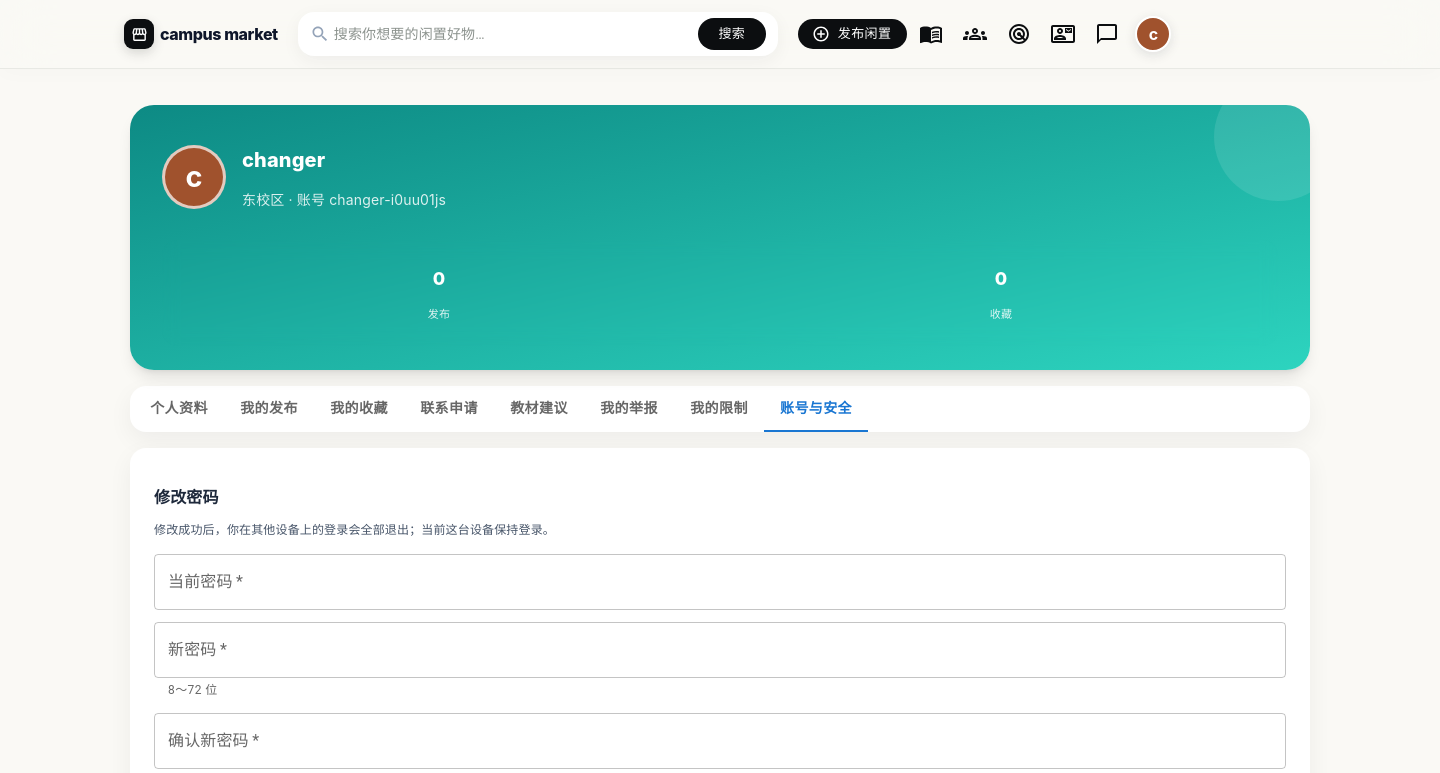
Scenario: 个人中心 → 账号与安全：修改密码 › 服务端的 429 原样显示（含等待时间）；其他设备退出的数量来自服务端响应
Step 1. Type "test-password" into the password field labelled "当前密码 *" → (720, 582), box [154,554,1286,610]
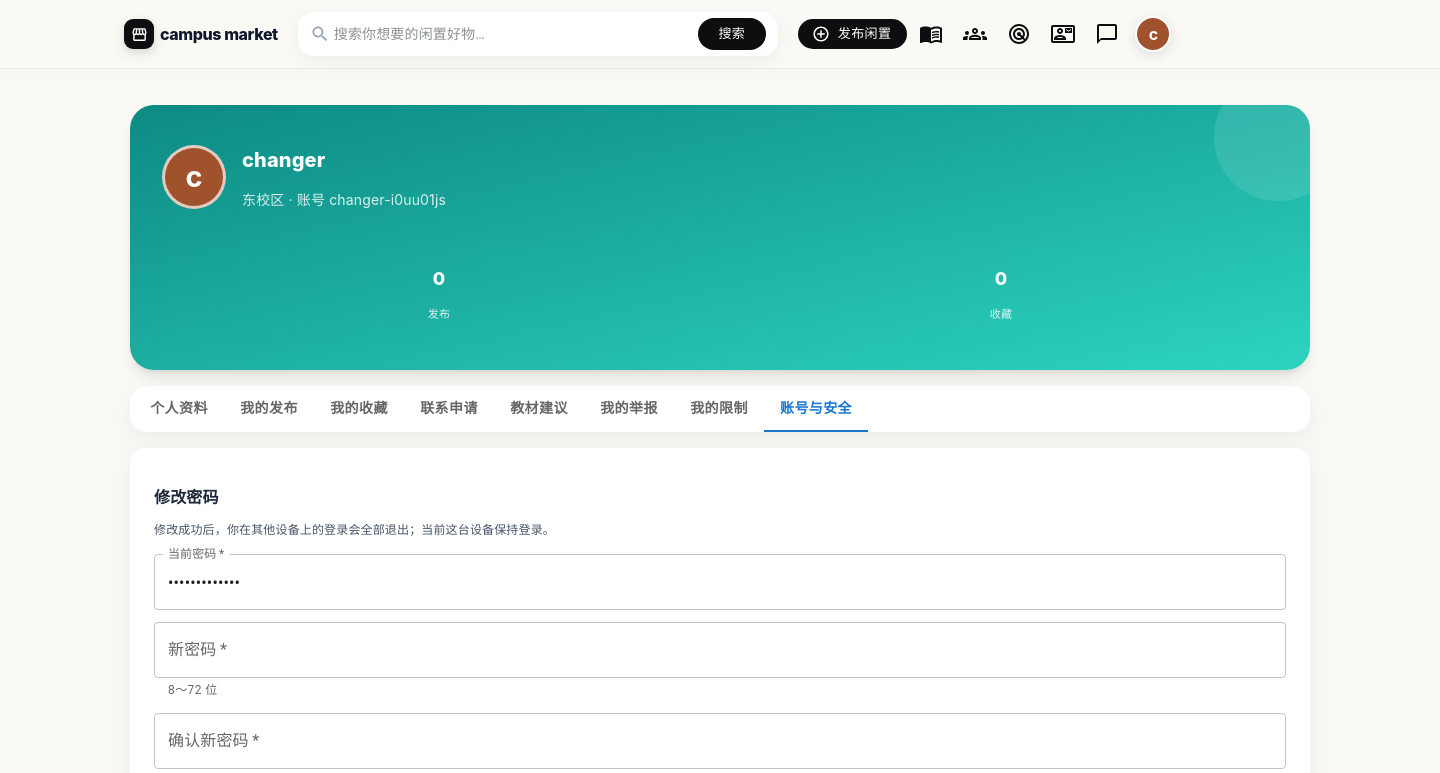
Step 2. Type "brand-new-pass" into the password field labelled "新密码 *" → (720, 650), box [154,622,1286,678]
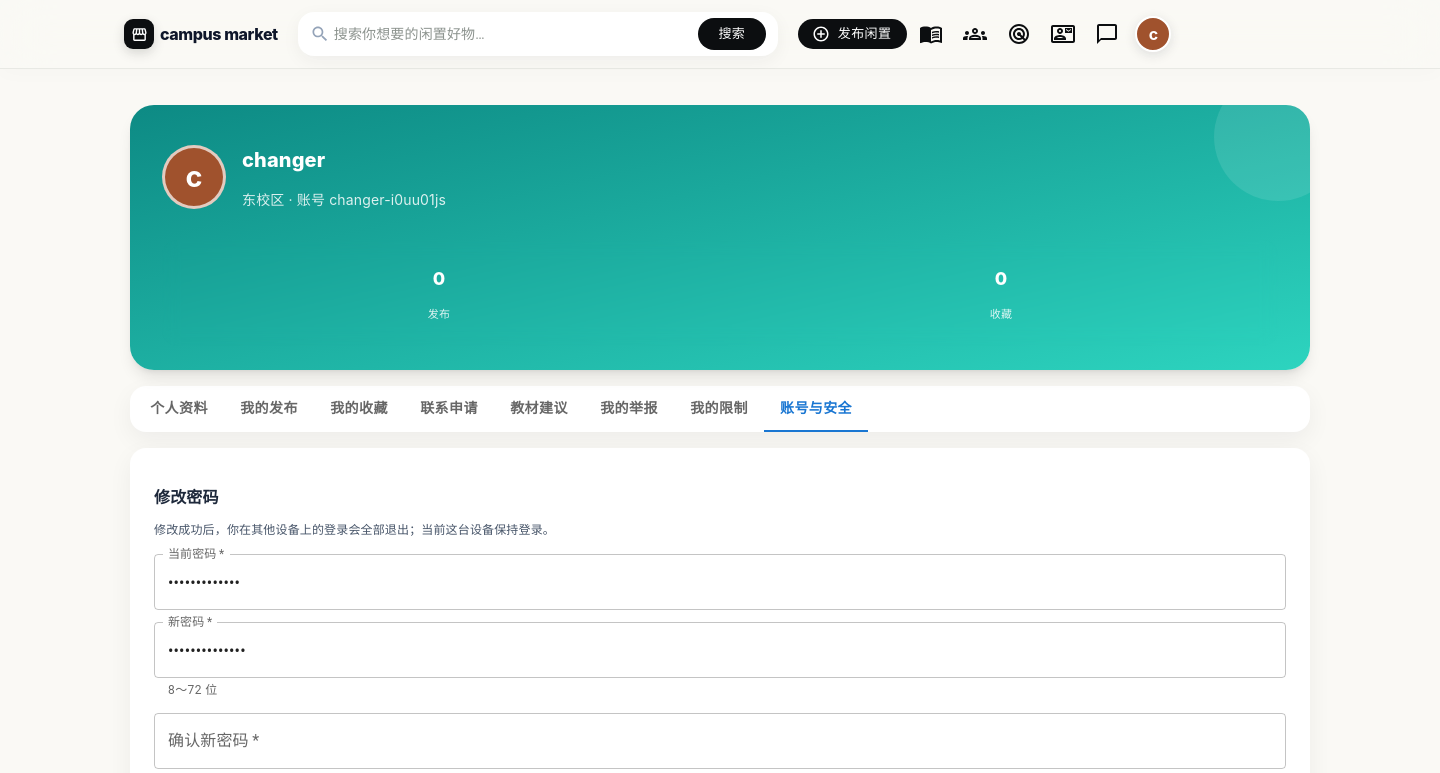
Step 3. Type "brand-new-pass" into the password field labelled "确认新密码 *" → (720, 741), box [154,713,1286,769]
(page scrolled)
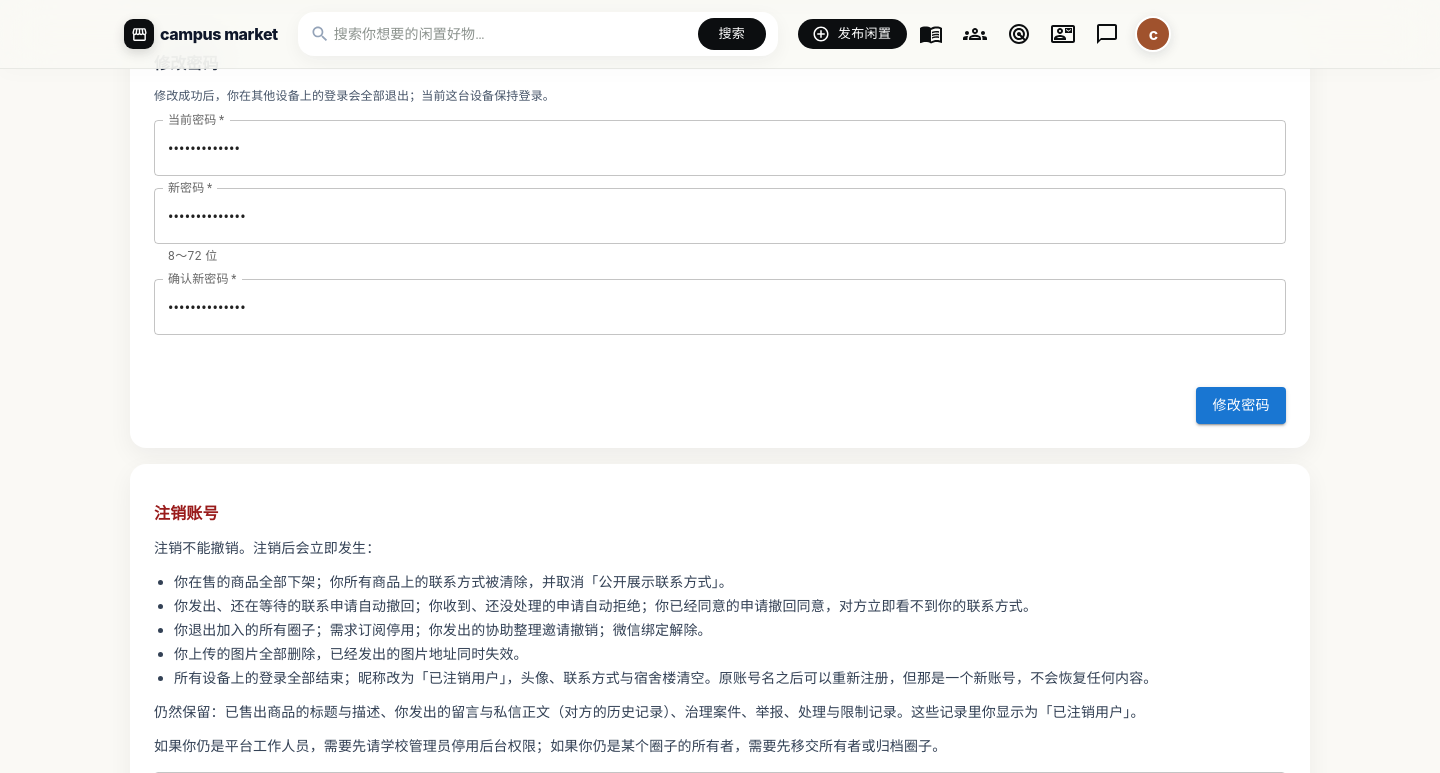
Step 4. Click the button "修改密码" → (1241, 405), box [1196,387,1286,424]
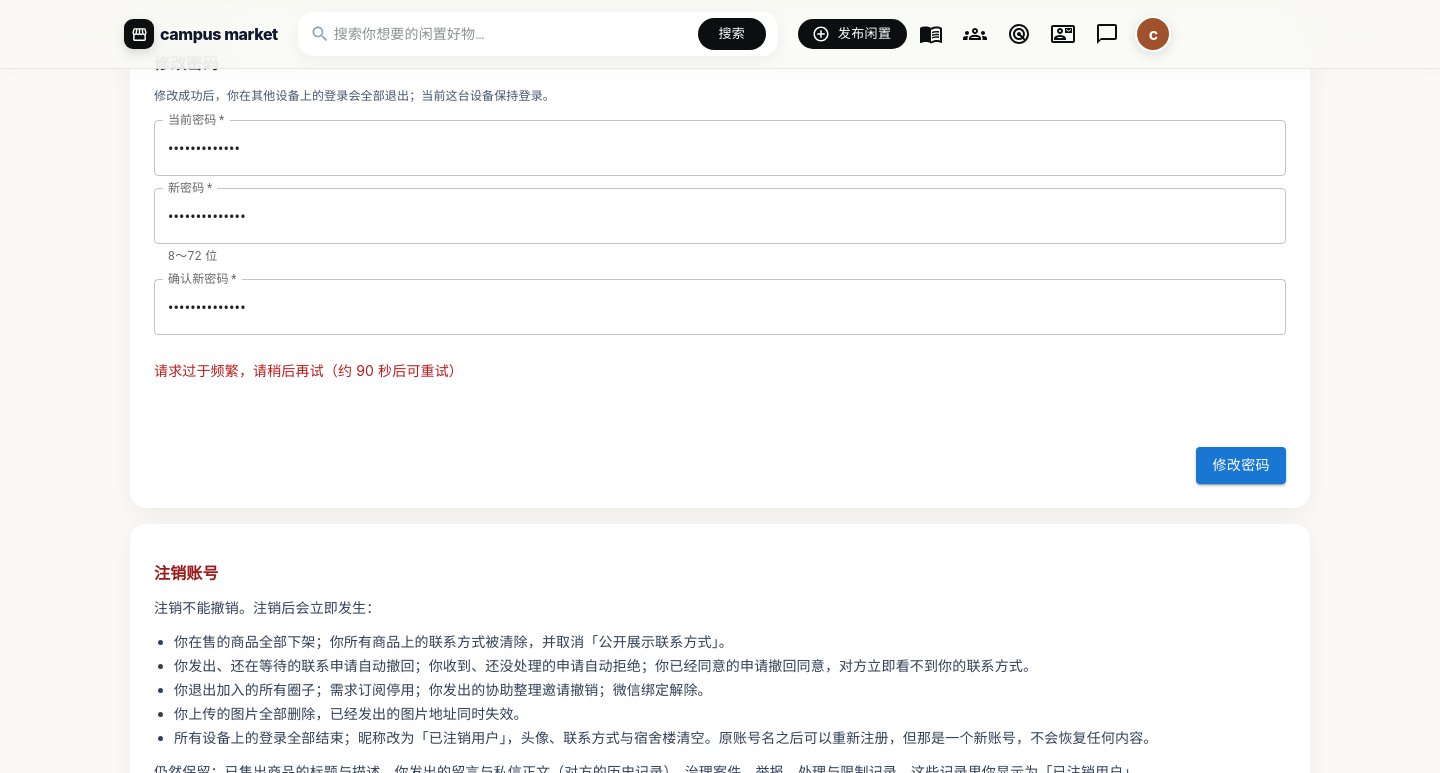
Result: the message reads "请求过于频繁，请稍后再试（约 90 秒后可重试）" at [154,362,463,379]
Step 5. Click the button "修改密码" → (1241, 465), box [1196,447,1286,484]
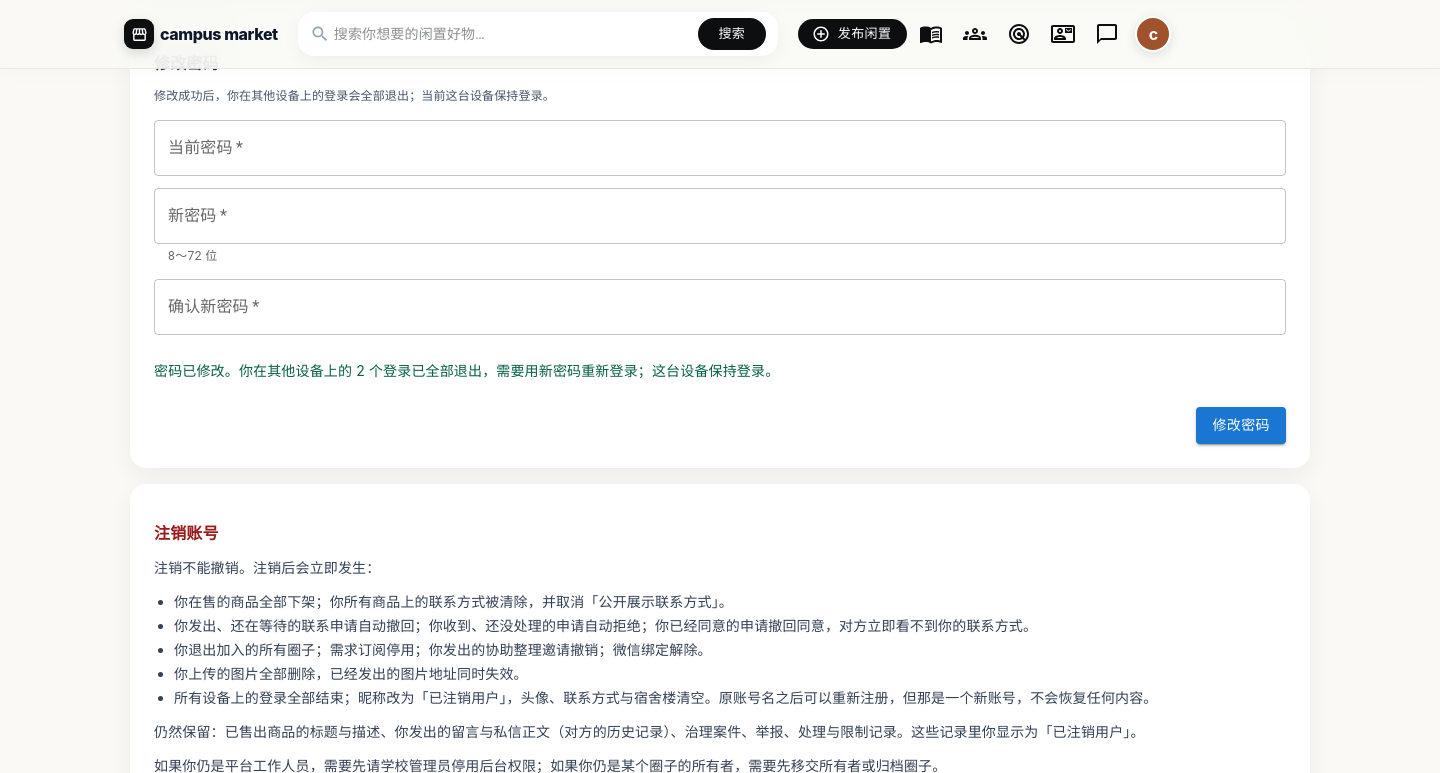
Result: the text "密码已修改。你在其他设备上的 2 个登录已全部退出，需要用新密码重新登录；这台设备保持登录。" is shown at [154,362,779,379]
